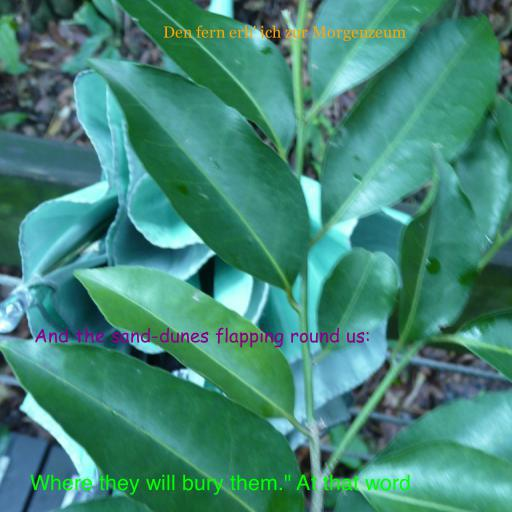Big Caslon: (29, 474, 411, 495)
Comic Sans MS: (33, 327, 371, 348)
Georgia: (162, 25, 406, 42)
